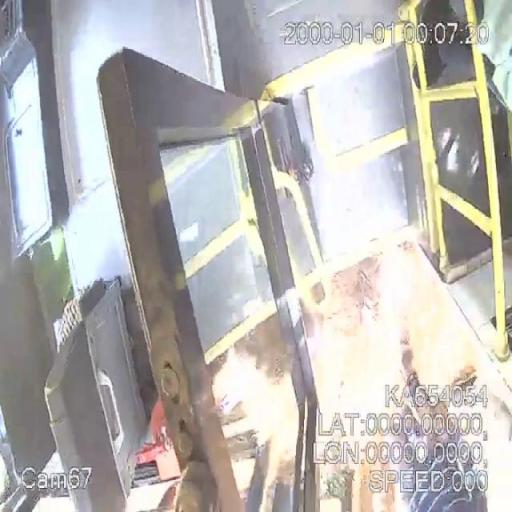persona: (396, 336, 486, 511)
